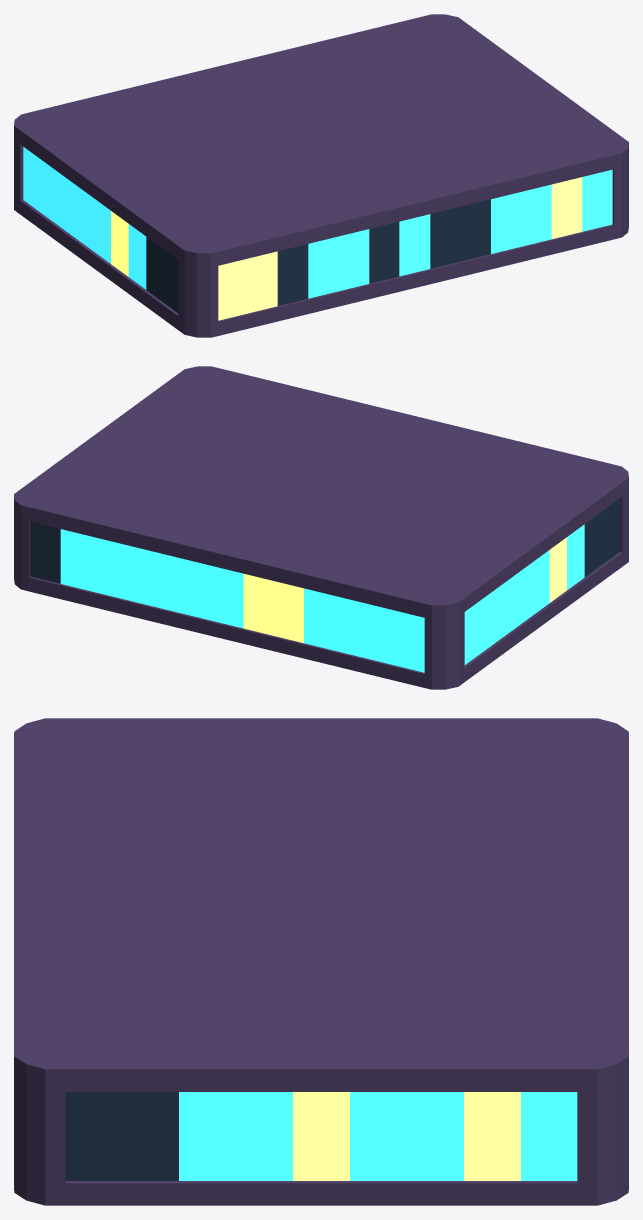
Rendered from StageV1.fbx.
3 views of the same model, one above another, from view 1: azimuth 30°, elevation 25°; view 2: azimuth 150°, elevation 25°; view 3: azimuth 270°, elevation 25° (orthographic). The views are drawn at different scales.
Visible parts, largest first — view 1: Cube.004; view 2: Cube.004; view 3: Cube.004.
Boxes of the visible parts, left/top/right/bottom form: Cube.004: left=14, top=14, right=628, bottom=337; Cube.004: left=14, top=366, right=628, bottom=689; Cube.004: left=14, top=718, right=628, bottom=1205.
Size of the model in its own units: 583 by 106 by 432.
